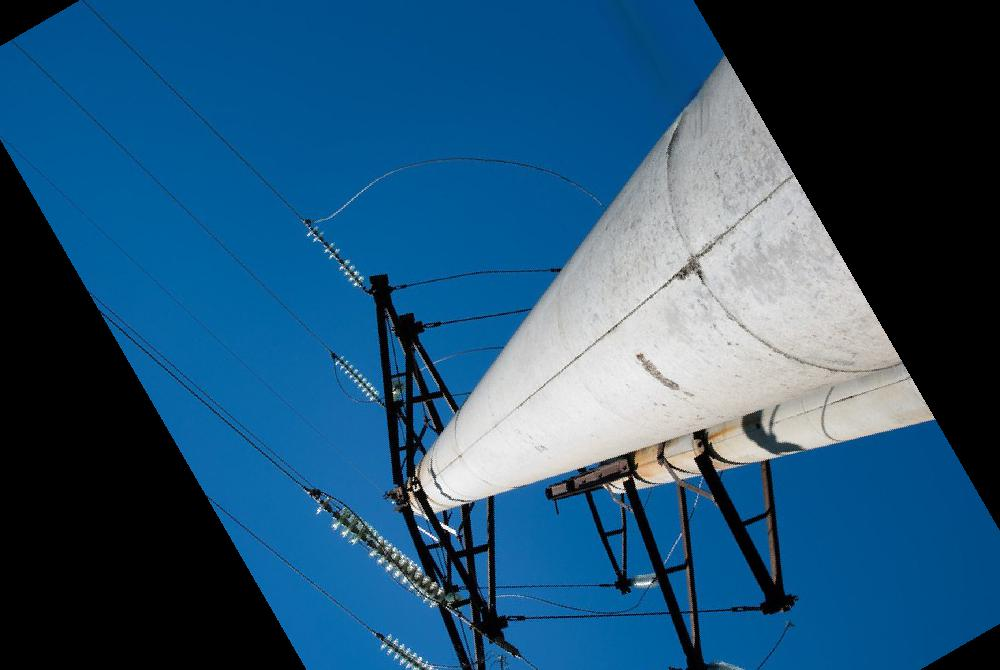insulator: (314, 490, 450, 613), (305, 223, 367, 291), (375, 628, 445, 670), (332, 352, 382, 405), (629, 567, 662, 591)
insulator_stringdrop: (314, 493, 350, 533), (348, 530, 383, 561), (311, 230, 338, 256), (328, 247, 351, 274)
